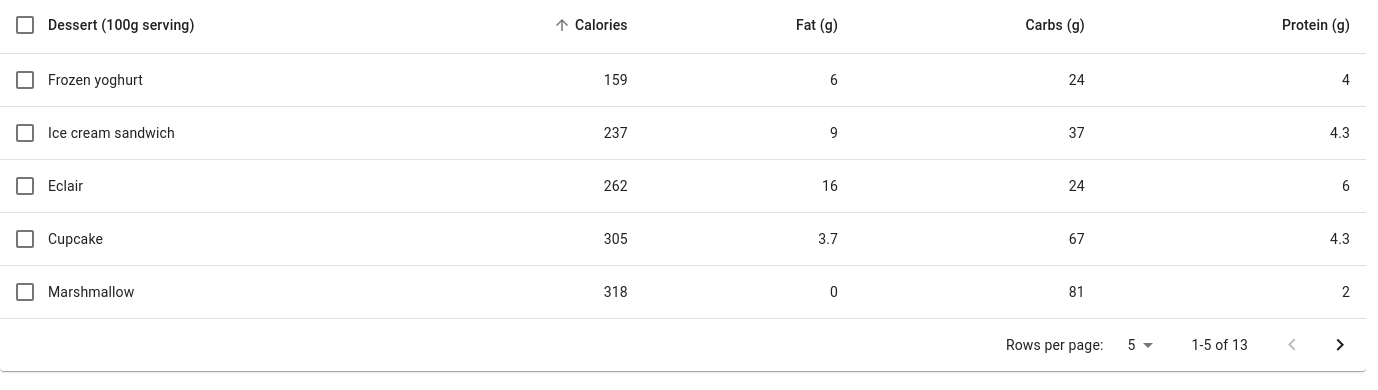
Test case: SortableTable › can go to next/previous page
expect the text "Cupcake" is shown: met, box [48,213,411,266]
expect the text "Honeycomb" is not shown: met
What coordinates should you click on to do the following:
click the button named "Next page"
I would click on:
 (1340, 345)
Its box is [1316,321,1364,369].
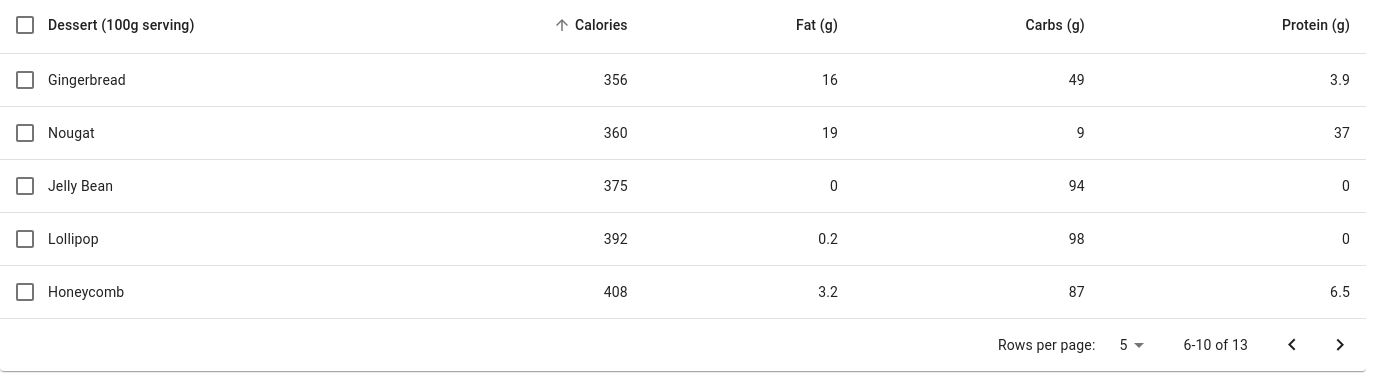
expect the text "Honeycomb" is shown: met, box [48,266,411,319]
expect the checkbox "Cupcake" is gone: met
What coordinates should you click on to do the following:
click the button named "Previous page"
I would click on:
 (1292, 345)
Its box is [1268,321,1316,369].
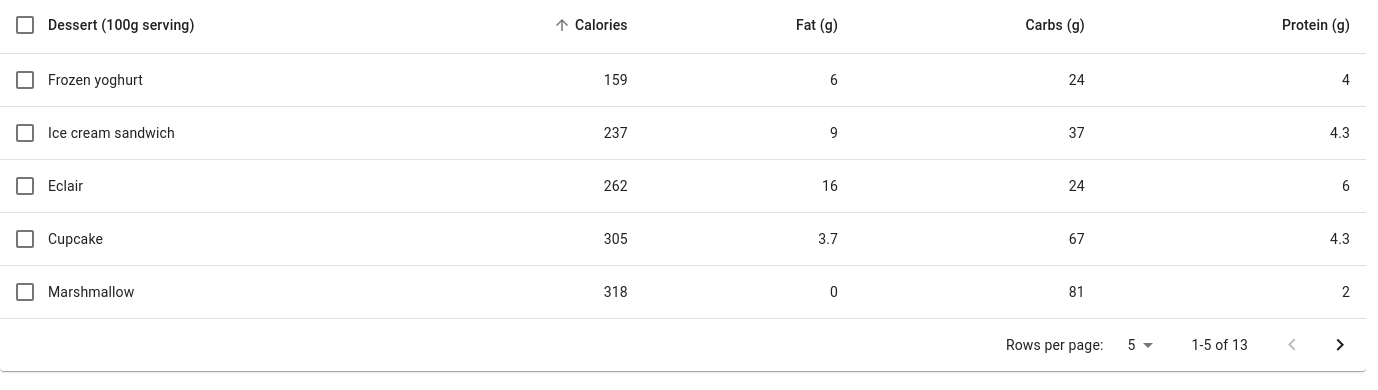
expect the text "Cupcake" is shown: met, box [48,213,411,266]
expect the checkbox "Honeycomb" is gone: met
